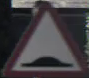Speed Breaker ahead: (4, 10, 77, 69)
